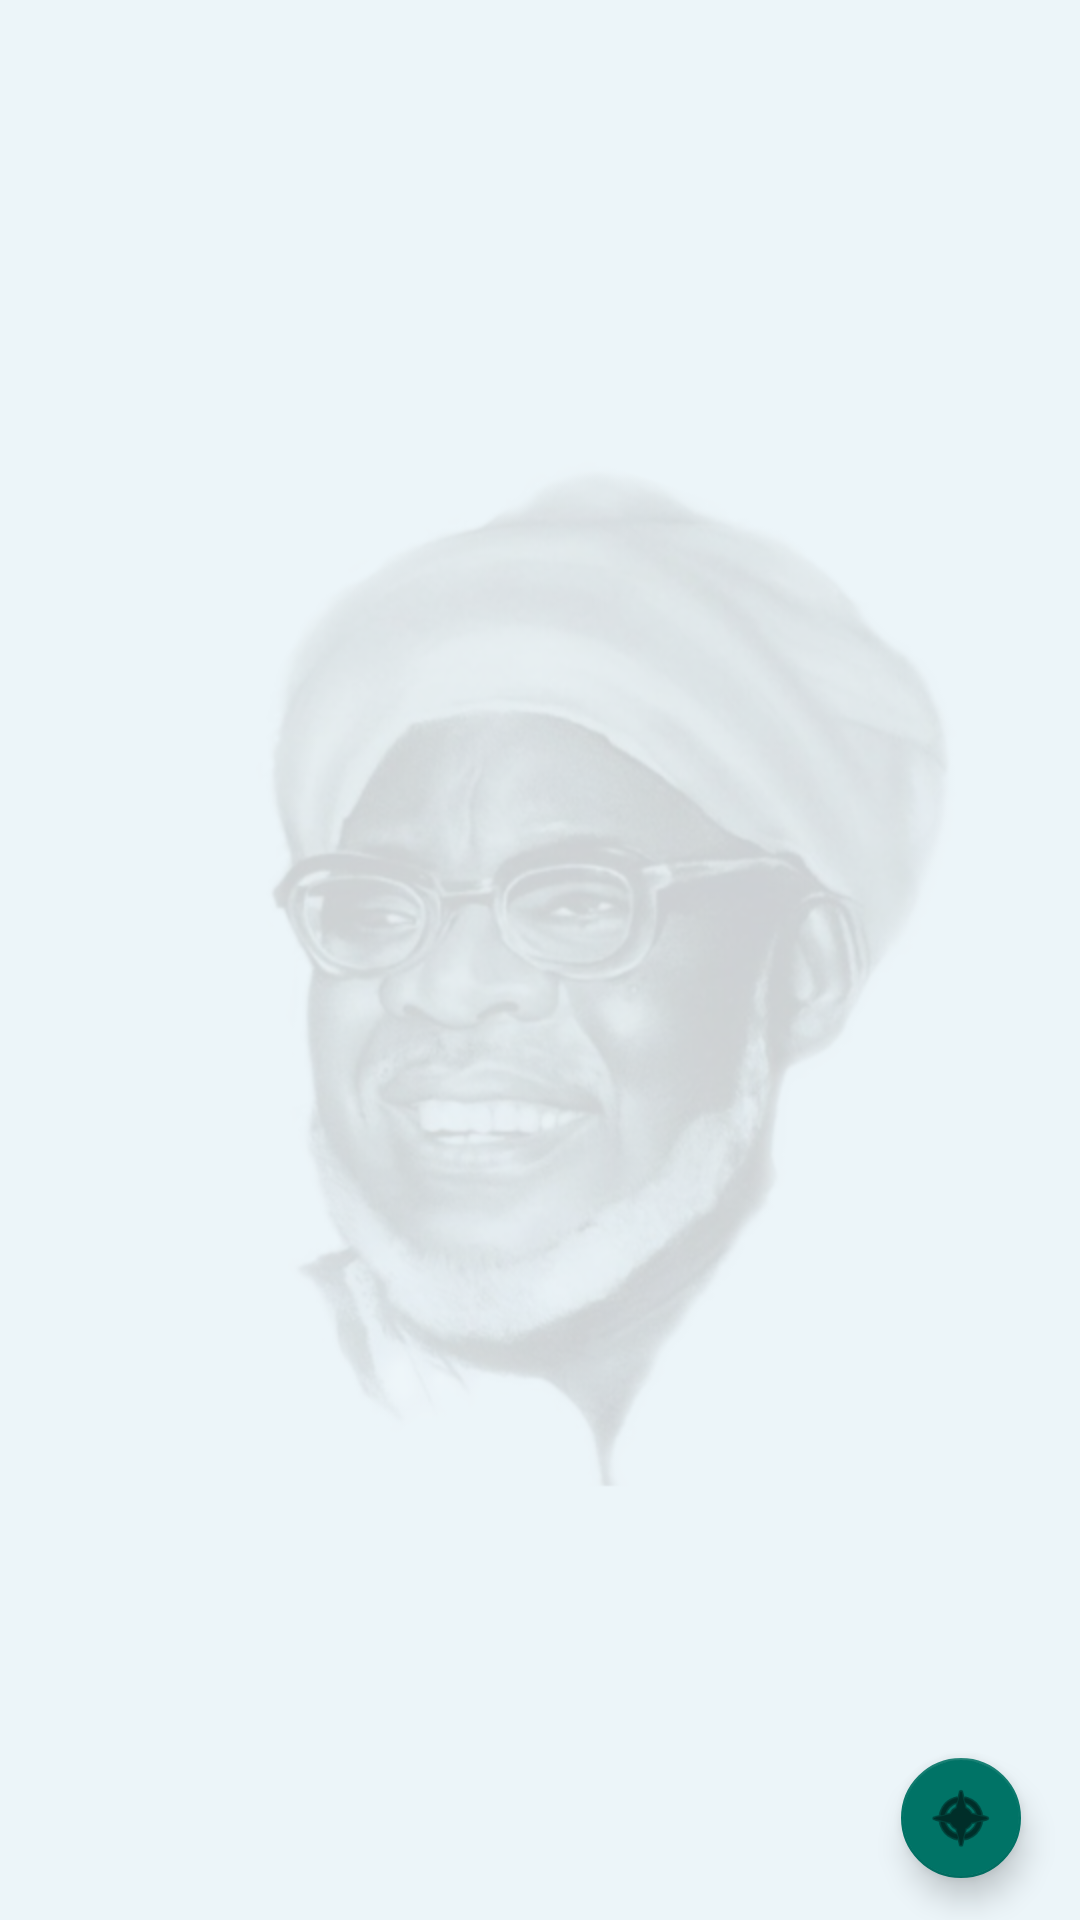

Icon click points for this 1080px×1920px phone screenshot, format (x=x, y=y):
compass: (x=962, y=1824)
